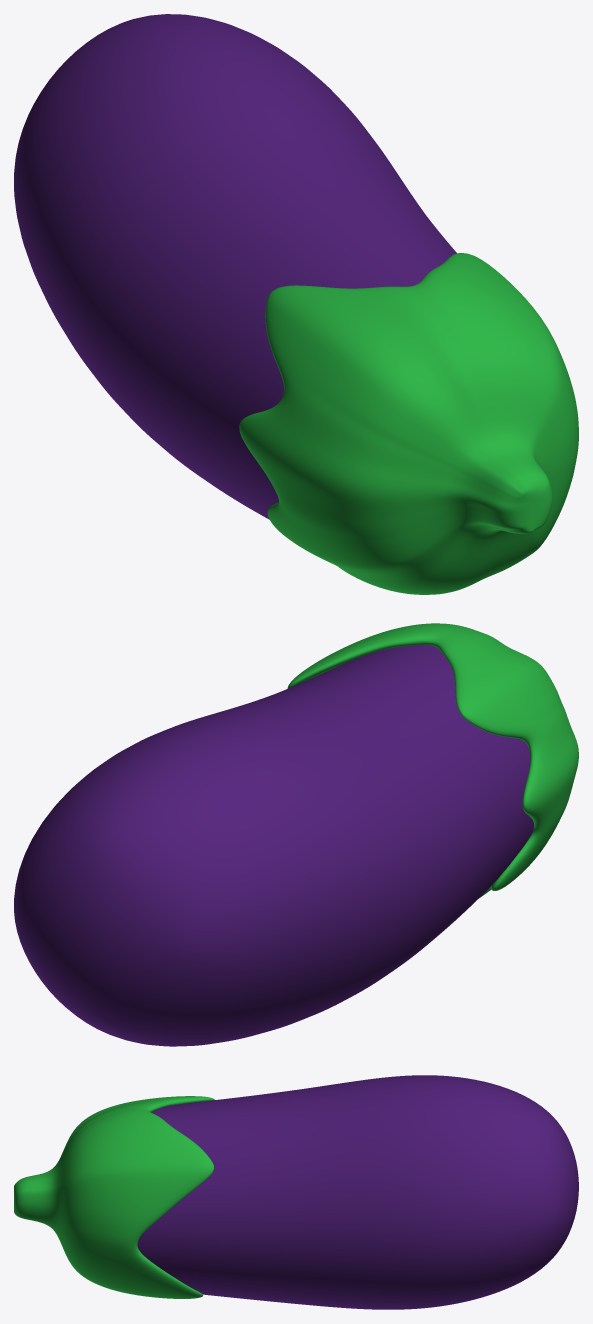
Rendered from Ee-Eggplant.glb.
The picture shows the model from 3 angles, top to bottom: view 1: azimuth 30°, elevation 25°; view 2: azimuth 150°, elevation 25°; view 3: azimuth 270°, elevation 25°; orthographic projection. The views are drawn at different scales.
Visible parts, largest first — view 1: eggplant_flesh, eggplant_leaf; view 2: eggplant_flesh, eggplant_leaf; view 3: eggplant_flesh, eggplant_leaf.
Part boxes in pixels (left/top/right/bottom): eggplant_flesh: left=14, top=14, right=456, bottom=519; eggplant_leaf: left=239, top=253, right=578, bottom=594; eggplant_flesh: left=14, top=644, right=533, bottom=1046; eggplant_leaf: left=287, top=623, right=578, bottom=898; eggplant_flesh: left=137, top=1075, right=578, bottom=1309; eggplant_leaf: left=14, top=1096, right=214, bottom=1298.
Size of the model in its own units: 221 by 220 by 520.
